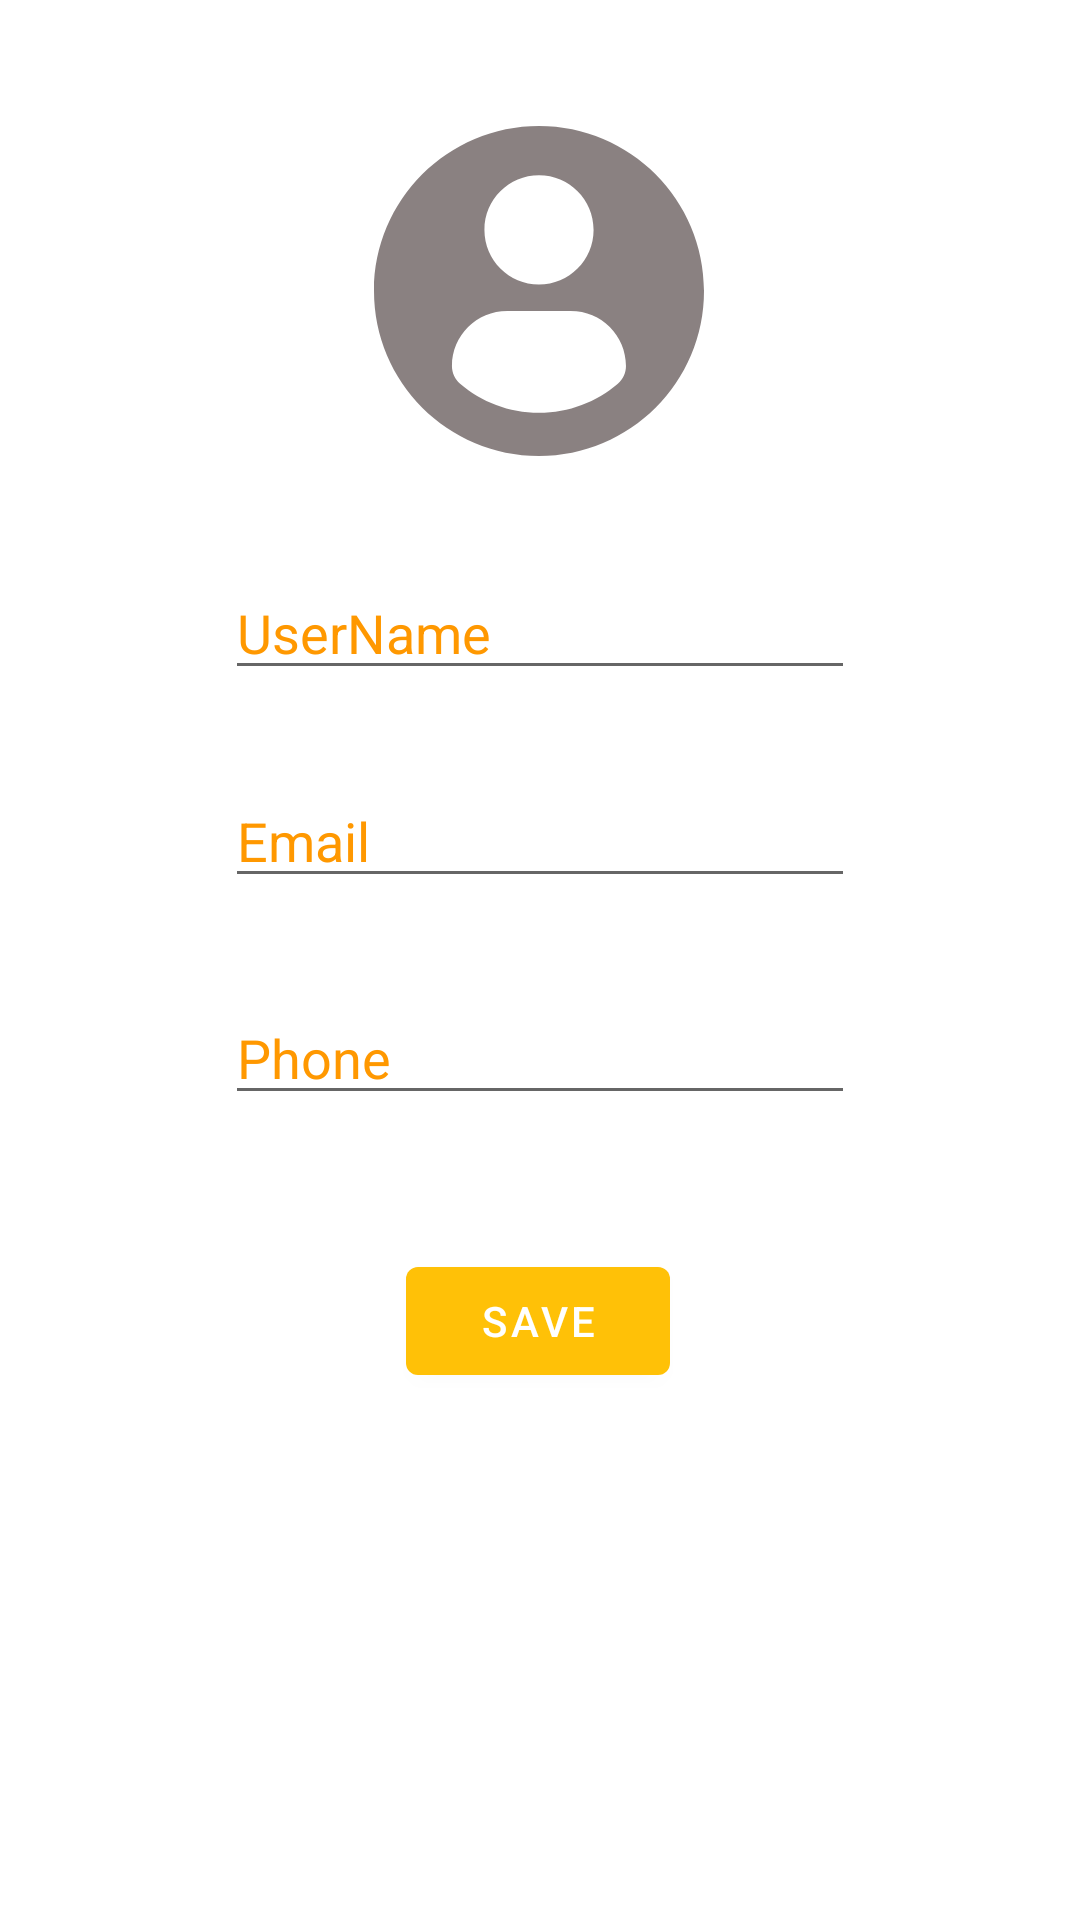

Where to tap for icons on this 1080×1920 app screen, as (x=x, y=y):
profile: (x=539, y=291)
